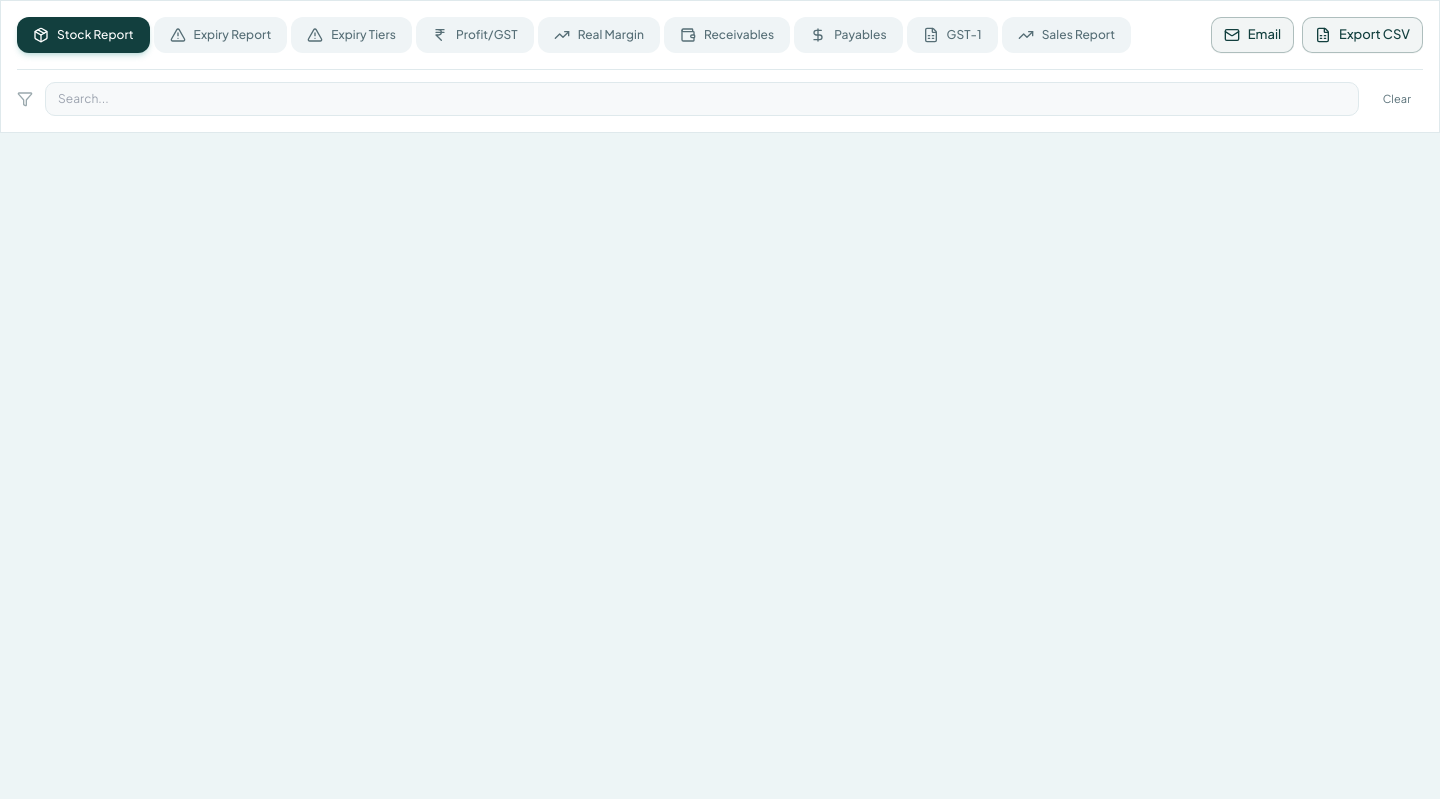
Test: Reports Component › Sales Report Tab › should show customer names in sales table
The image size is (1440, 799).
Click the button "Sales Report". click: (1066, 35)
box: left=1002, top=17, right=1131, bottom=53
(page scrolled)
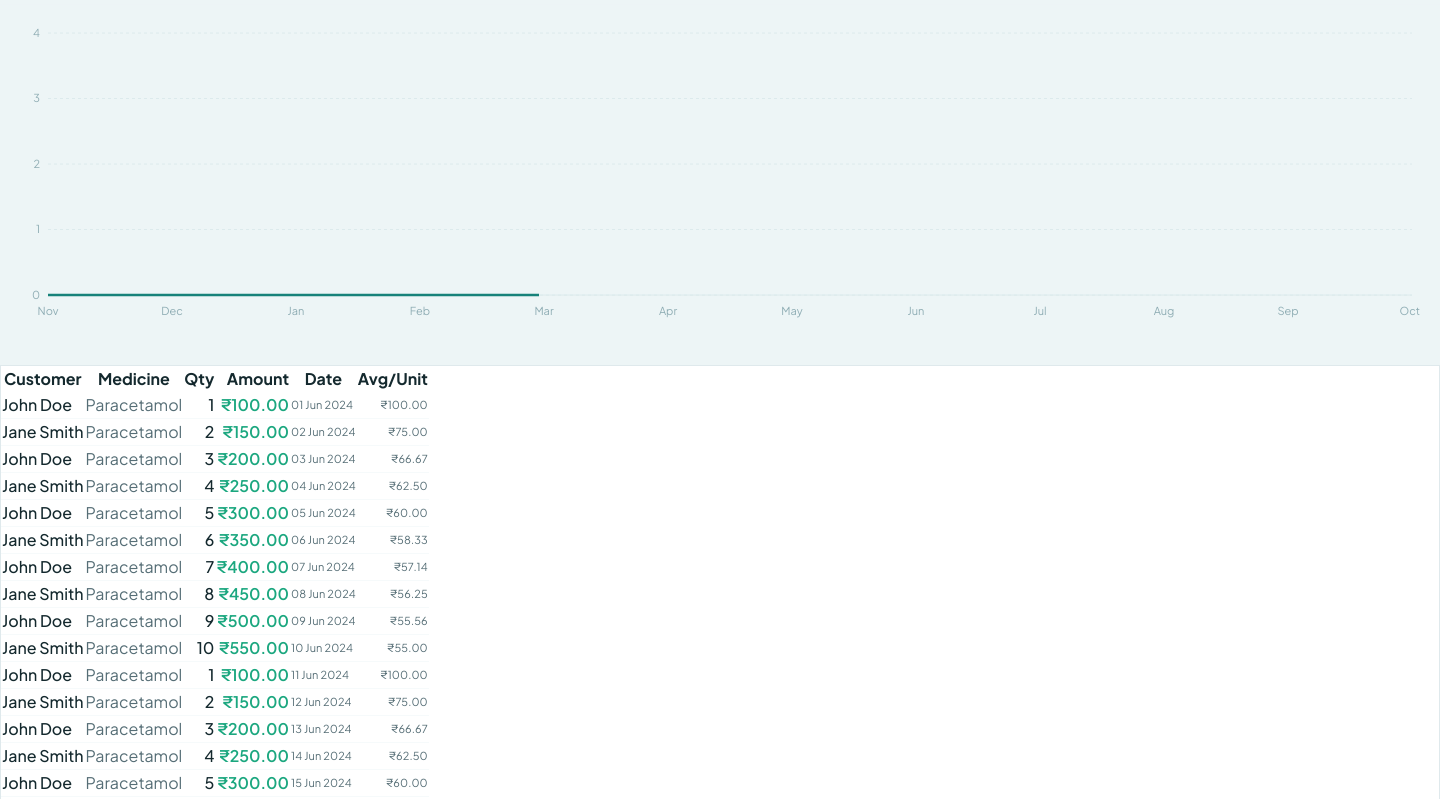
Expected: the text "John Doe" in the row of "01 Jun 2024" is shown, left=2, top=394, right=72, bottom=415
